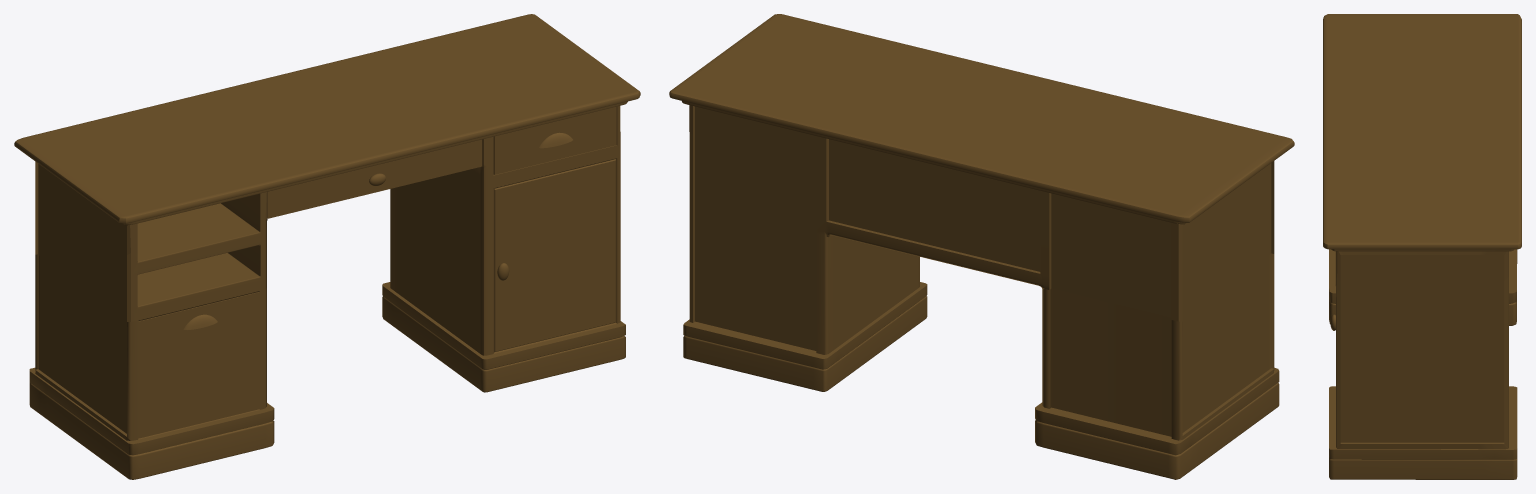
Rendered from Desk_high.fbx.
3 renders of one model, left to right at view 1: azimuth 30°, elevation 25°; view 2: azimuth 150°, elevation 25°; view 3: azimuth 270°, elevation 25°, orthographic. The views are drawn at different scales.
Parts seen in each view (by area): view 1: Desk_high; view 2: Desk_high; view 3: Desk_high.
Part boxes in pixels (box(x1,y1,x2,y2)): Desk_high: box(14, 14, 640, 479); Desk_high: box(669, 14, 1294, 479); Desk_high: box(1323, 14, 1521, 479).
Size of the model in its own units: 1.99 by 0.9796 by 0.7253.
